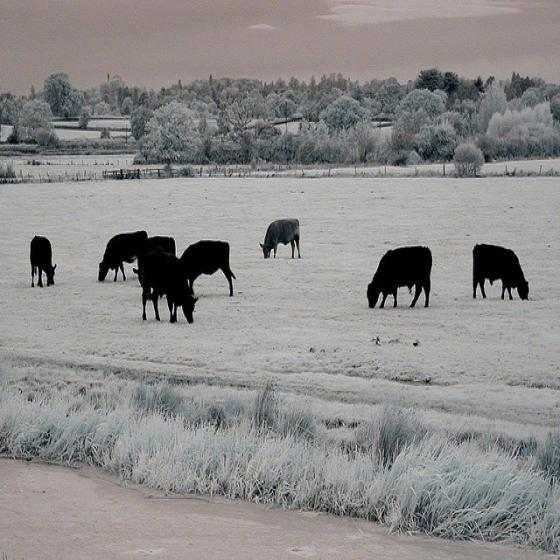cow: (366, 246, 433, 309), (142, 251, 198, 324), (472, 243, 530, 302), (180, 240, 237, 295), (97, 232, 148, 284), (133, 237, 176, 288), (261, 219, 302, 260), (29, 235, 56, 289)
